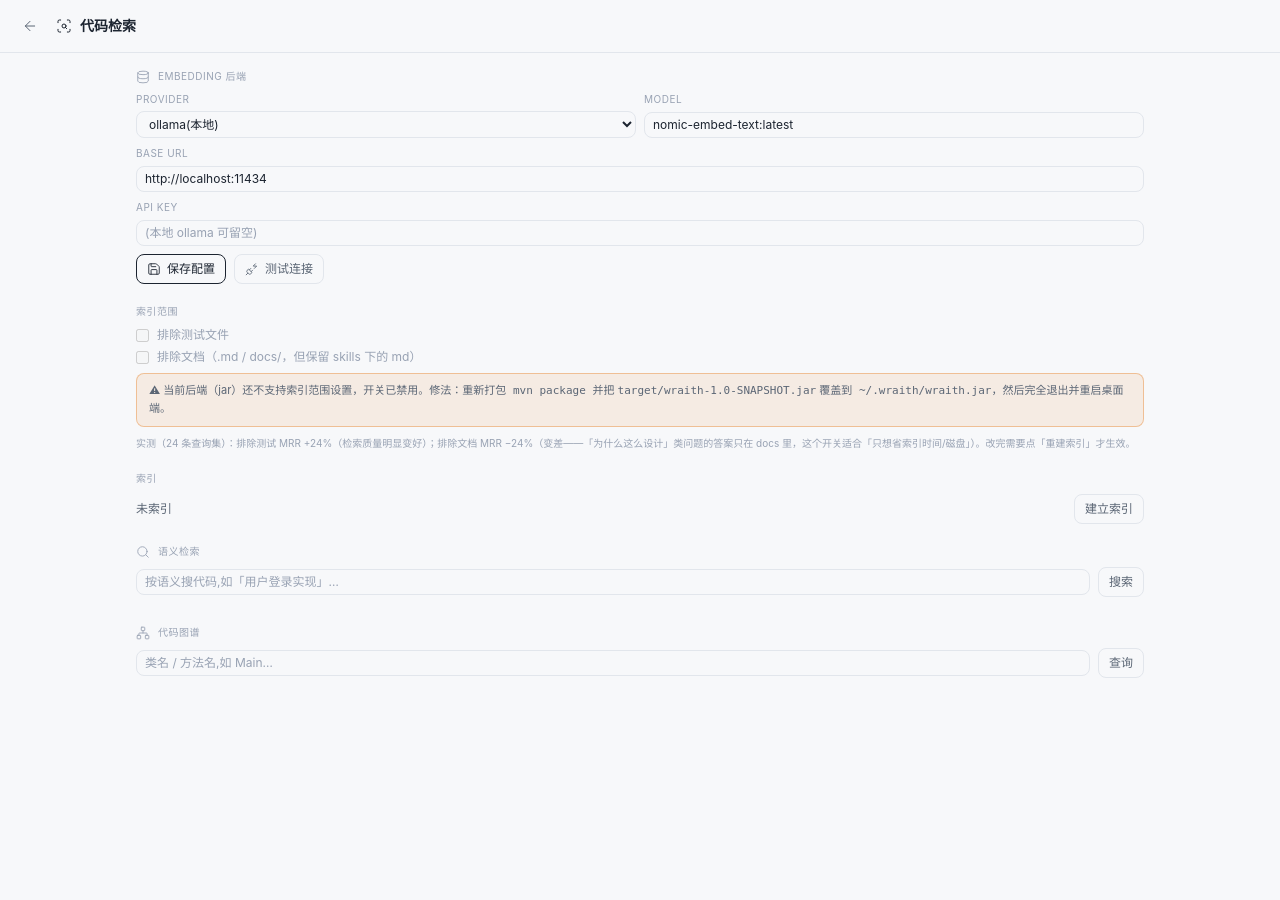
Test case: RagPanel 测试连接 › 通了但与现有索引不兼容:不能只显示成功 —— 那条警告正是最容易被忽略的东西
Click the button "测试连接" at point(279, 269), box left=234, top=254, right=324, bottom=284
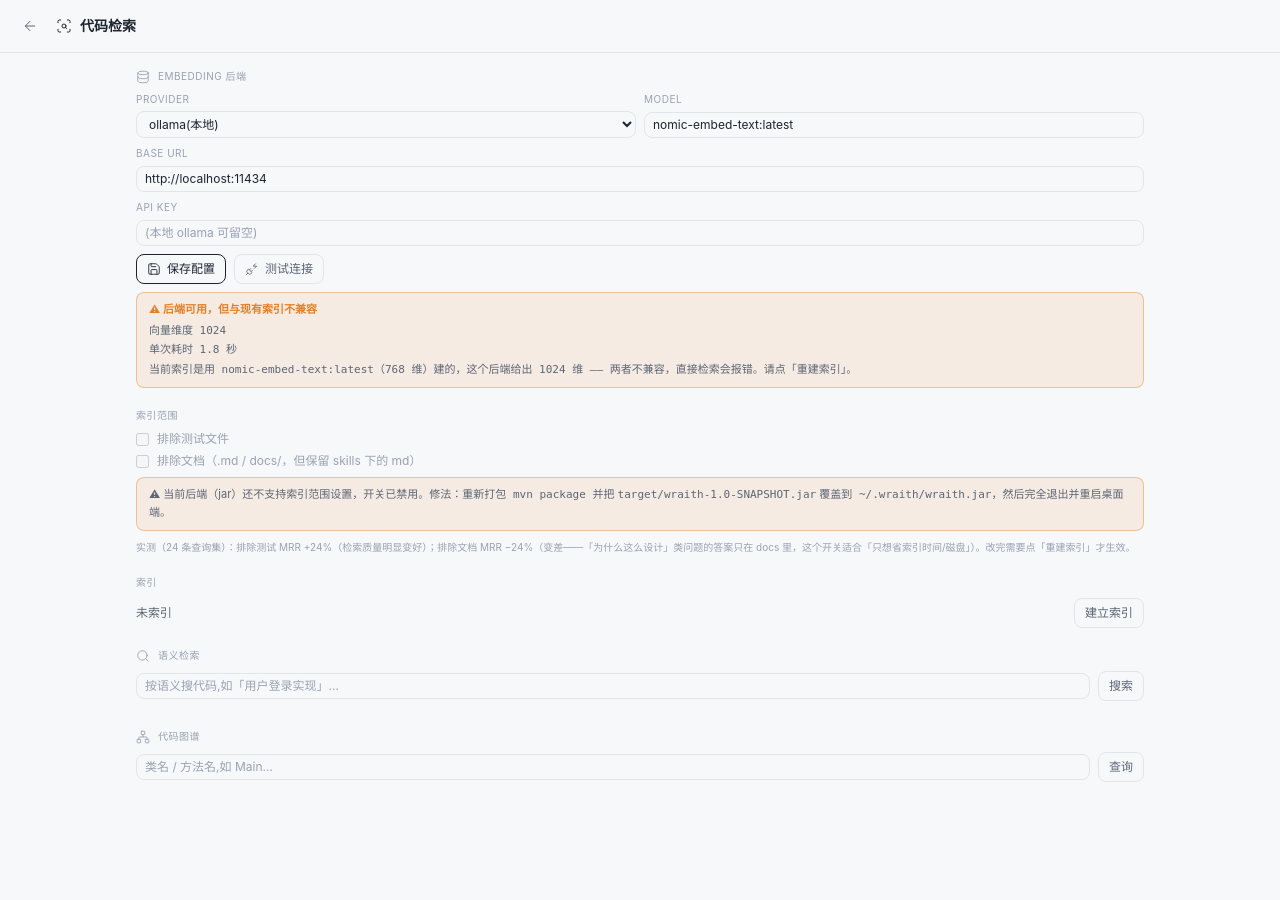
Expected: the element with test id "rag-embedding-test-result" shows "不兼容", left=136, top=292, right=1144, bottom=388
Expected: the element with test id "rag-embedding-test-result" shows "1024", left=149, top=324, right=226, bottom=336
Expected: the element with test id "rag-embedding-test-result" shows "768", left=149, top=363, right=857, bottom=376
